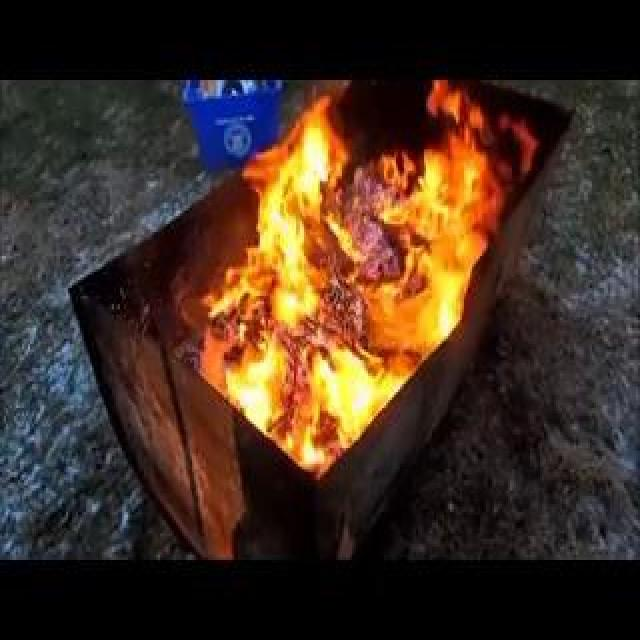Fire: (332, 284, 335, 402)
